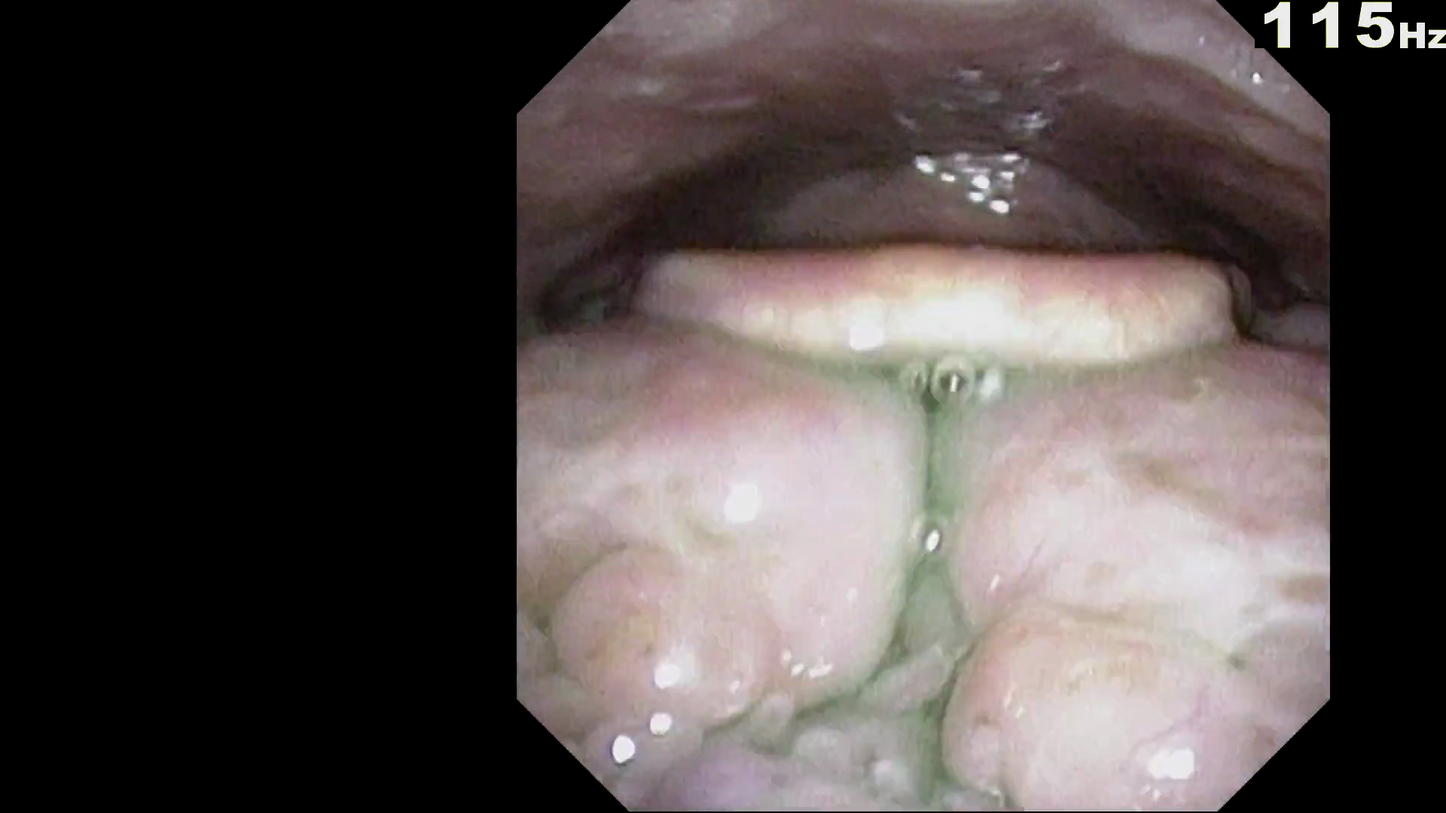epiglottis: (573, 301, 1288, 475)
trachea: (859, 355, 1045, 447), (931, 341, 1048, 474)
